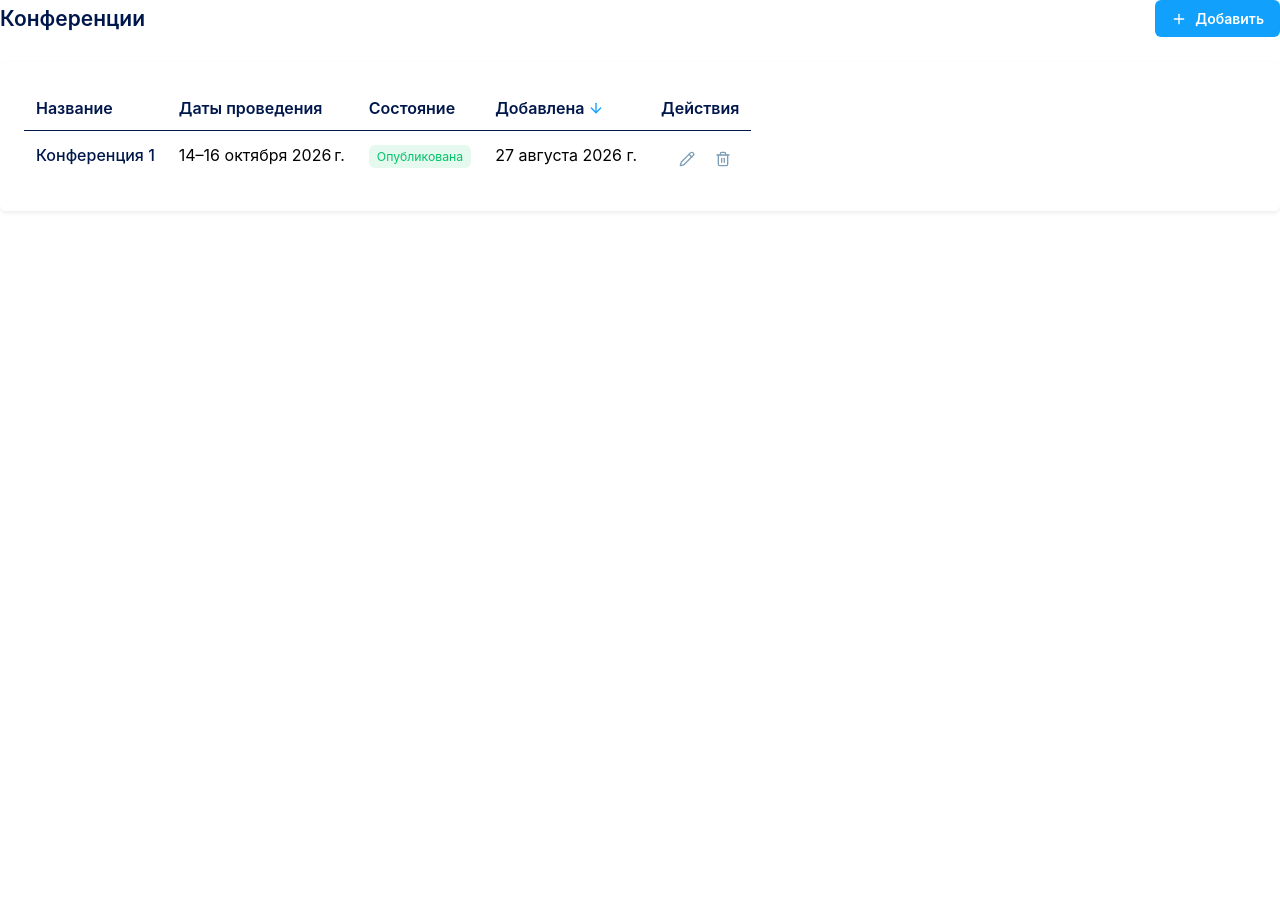
Test case: AdminConferencesPage, создание › заводит конференцию опубликованной
The image size is (1280, 900).
Click the button "Добавить" at (1218, 18), box [1155,0,1279,37]
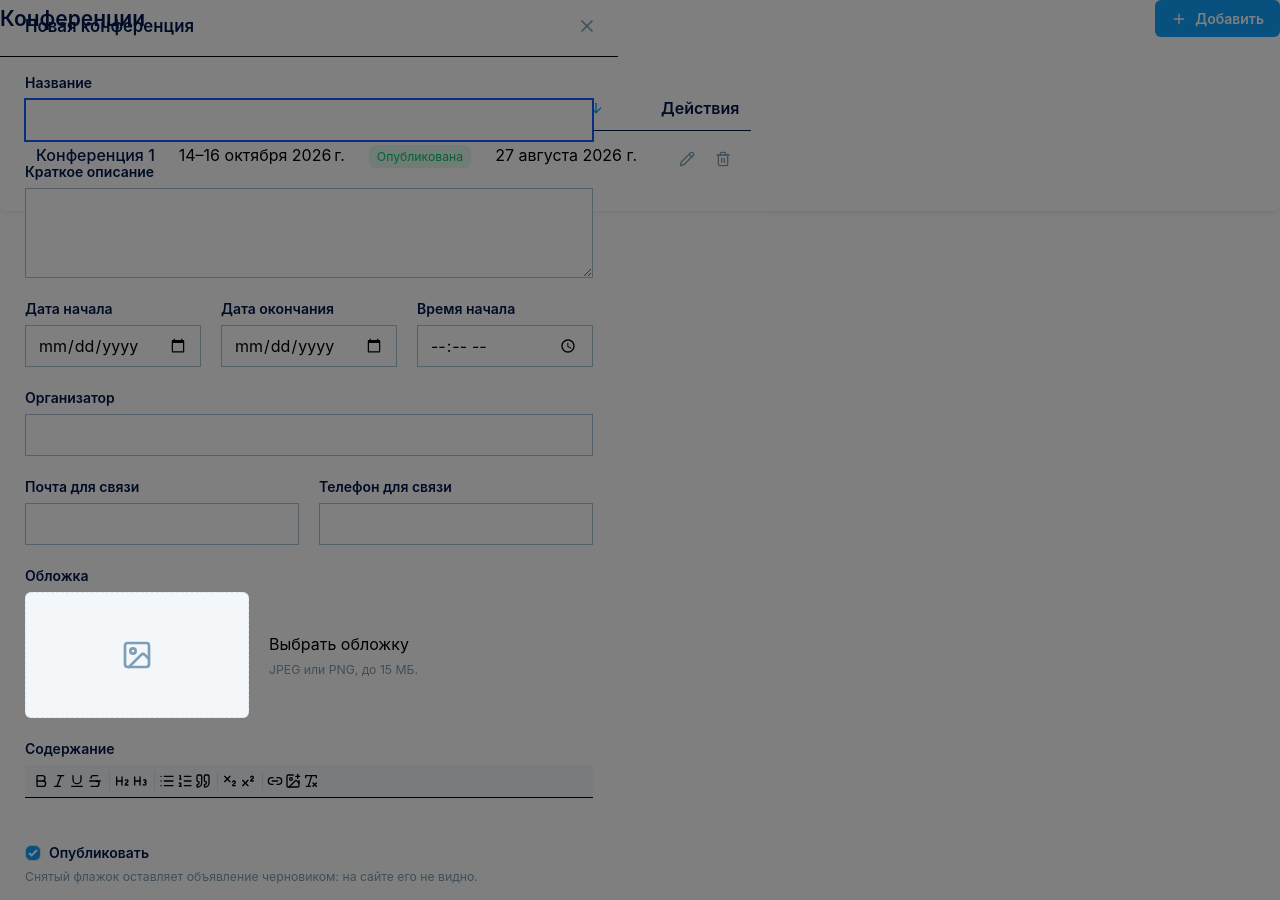
Expected: the field named "Содержание" is shown, [25,798,593,822]
Expected: the checkbox labelled "Опубликовать" is checked, [25,844,41,860]
